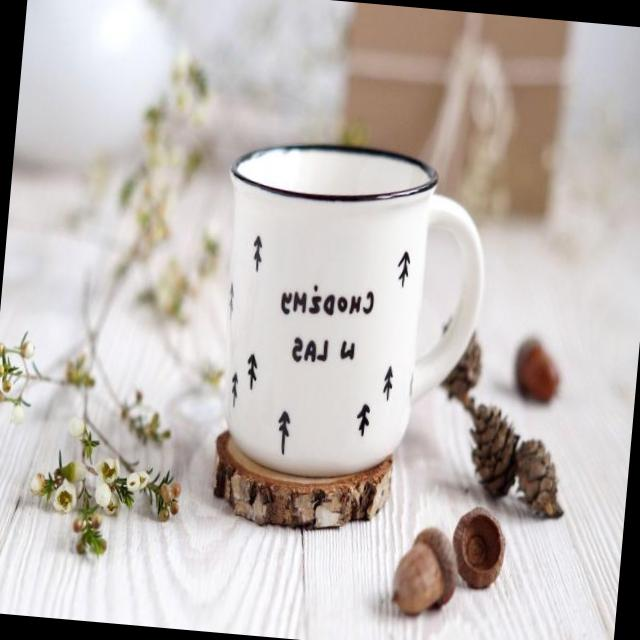Coffee Mug: (205, 135, 492, 488)
